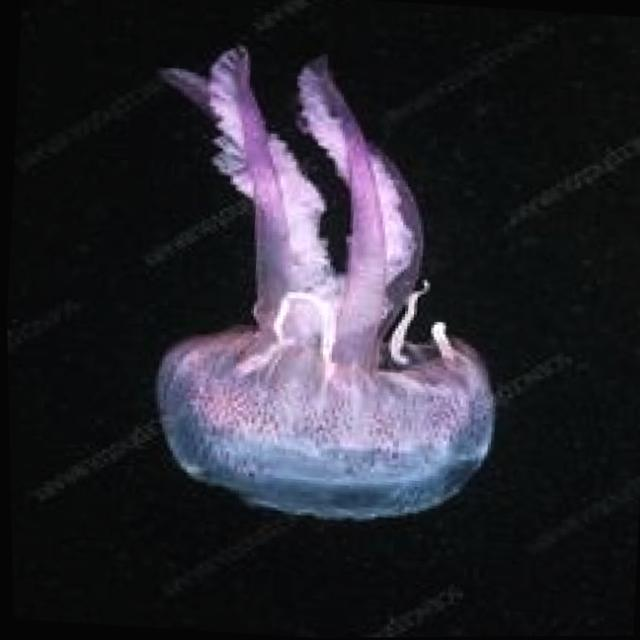Human: (120, 38, 519, 538)
